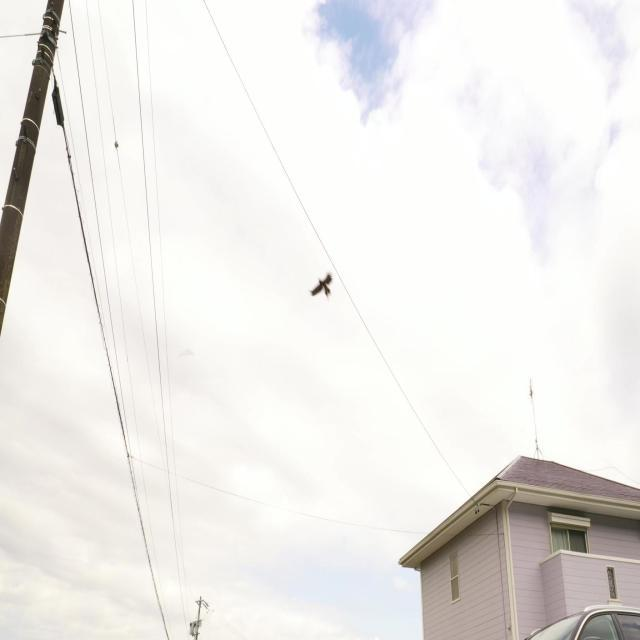Birds: (304, 255, 336, 313)
